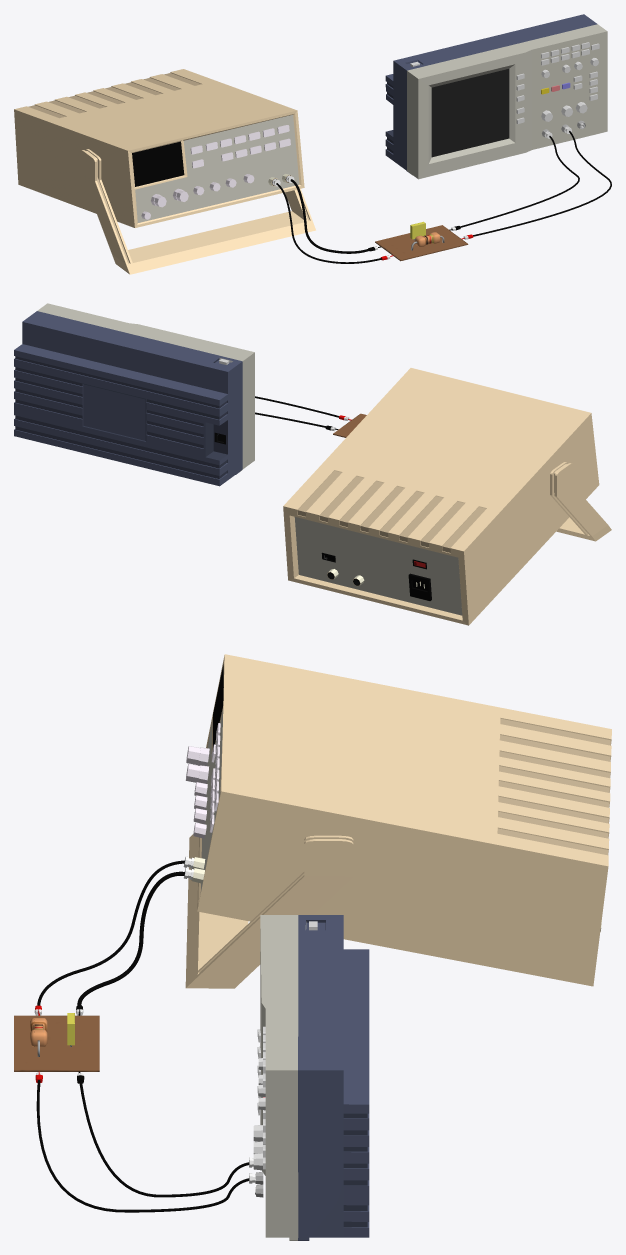
File: LPF RC_w_cables_v2.gltf
3 views of the same model, one above another, from view 1: azimuth 30°, elevation 25°; view 2: azimuth 150°, elevation 25°; view 3: azimuth 270°, elevation 25° (orthographic). The views are drawn at different scales.
Parts seen in each view (by area): view 1: frequency generator, osiloskop, Plane_output, pcb, Plane_frequency, kabel output osiloskop, kabel ground osiloskop, kabel ground function, kabel input function; view 2: frequency generator, osiloskop; view 3: frequency generator, osiloskop, pcb, kabel output osiloskop, kabel ground function, kabel ground osiloskop, kabel input function.
Part boxes in pixels (x1,y1,x2,y2): frequency generator: (14, 69, 315, 274); osiloskop: (385, 14, 607, 179); Plane_output: (432, 69, 509, 157); pcb: (375, 221, 468, 261); Plane_frequency: (132, 142, 183, 186); kabel output osiloskop: (473, 131, 611, 236); kabel ground osiloskop: (460, 136, 579, 227); kabel ground function: (290, 179, 369, 253); kabel input function: (276, 183, 381, 263); frequency generator: (283, 368, 611, 625); osiloskop: (14, 303, 254, 486); frequency generator: (185, 654, 611, 988); osiloskop: (253, 915, 369, 1240); pcb: (14, 1013, 99, 1071); kabel output osiloskop: (36, 1080, 249, 1212); kabel ground function: (77, 871, 184, 1005); kabel ground osiloskop: (79, 1080, 249, 1197); kabel input function: (37, 860, 184, 1005).
Bounding box in the file's own units: 1.01 × 0.2249 × 0.6255.
Materials: 25 (1 with a texture image).
